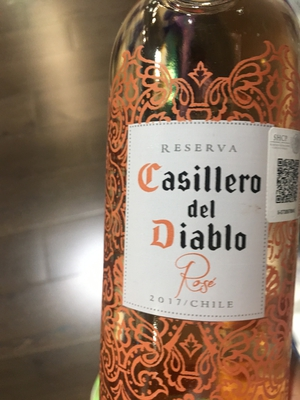casillero del diablo rose: (91, 2, 298, 400)
